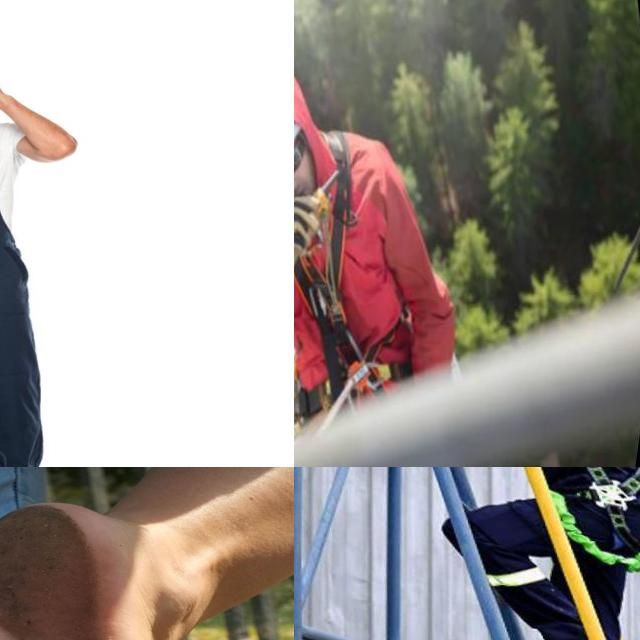Barefoots: (0, 501, 128, 640)
Harness: (294, 205, 364, 400), (553, 467, 640, 573)
